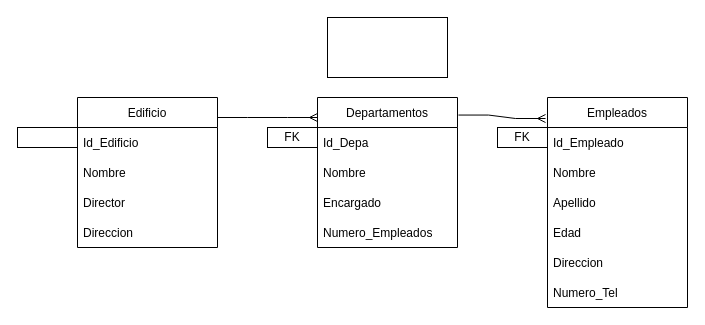
This 705x325 diagram has some shape labels left out. Here are the shapes that lost their labels. From the top down, the centre of each, then its label:
At point 387,47: "Modelo Lógico y Relacional".
At point 47,137: "PK".
